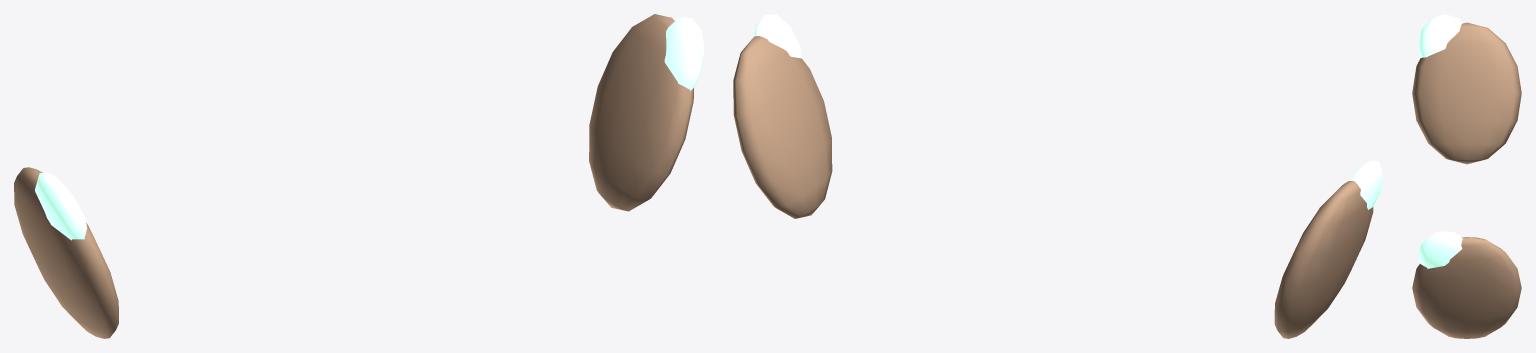
The model's file is Trait_Fins.fbx.
3 renders of one model, left to right at view 1: azimuth 30°, elevation 25°; view 2: azimuth 150°, elevation 25°; view 3: azimuth 270°, elevation 25°, orthographic. The views are drawn at different scales.
Parts seen in each view (by area): view 1: Fin_Ear, Fin_Ear.001, Fin_Ear_Edge, Fin_Ear_Edge.001; view 2: Fin_Ear, Fin_Ear.001, Fin_Ear_Edge, Fin_Ear_Edge.001; view 3: Fin_Ear.001, Fin_Ear, Fin_Ear_Edge.001, Fin_Ear_Edge.
Part boxes in pixels (bbox=[...]): Fin_Ear: bbox=[589, 14, 693, 211]; Fin_Ear.001: bbox=[14, 167, 118, 338]; Fin_Ear_Edge: bbox=[664, 17, 704, 91]; Fin_Ear_Edge.001: bbox=[35, 172, 87, 240]; Fin_Ear: bbox=[733, 36, 832, 218]; Fin_Ear.001: bbox=[1274, 181, 1373, 338]; Fin_Ear_Edge: bbox=[754, 14, 802, 58]; Fin_Ear_Edge.001: bbox=[1349, 160, 1383, 209]; Fin_Ear.001: bbox=[1412, 22, 1521, 164]; Fin_Ear: bbox=[1412, 237, 1521, 338]; Fin_Ear_Edge.001: bbox=[1417, 14, 1462, 57]; Fin_Ear_Edge: bbox=[1417, 231, 1462, 268].
Size of the model in its own units: 95.43 by 25.85 by 20.
